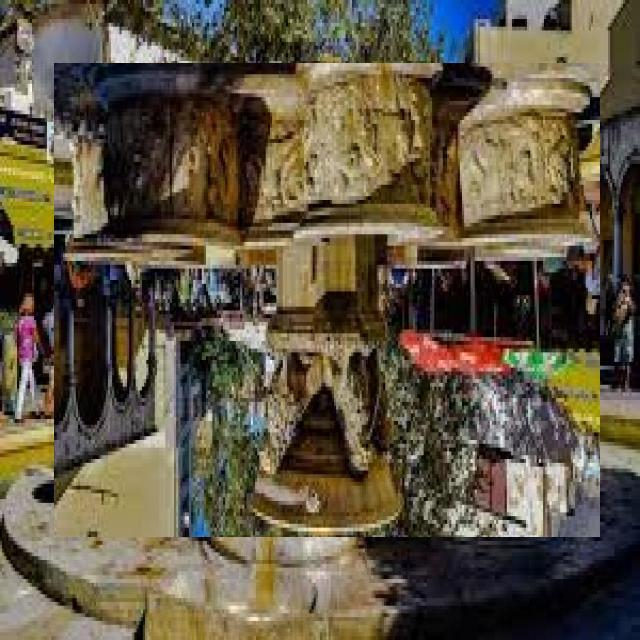Liontaria: (55, 64, 601, 538)
